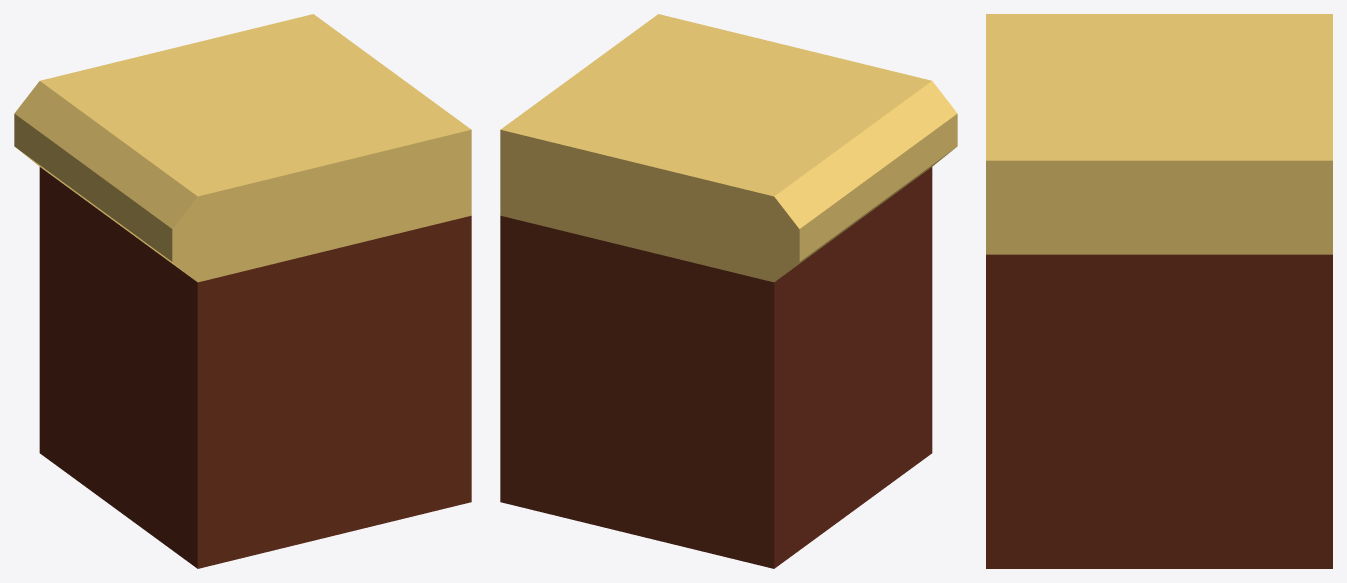
File: SandBlockEdge.fbx
3 views of the same model, side by side, from view 1: azimuth 30°, elevation 25°; view 2: azimuth 150°, elevation 25°; view 3: azimuth 270°, elevation 25° (orthographic). The views are drawn at different scales.
Visible parts, largest first — view 1: Edge; view 2: Edge; view 3: Edge.
Boxes of the visible parts, x1,y1,x2,y2 form: Edge: [14, 14, 471, 568]; Edge: [500, 14, 957, 568]; Edge: [986, 14, 1332, 568].
Size of the model in its own units: 109 by 130 by 100.
